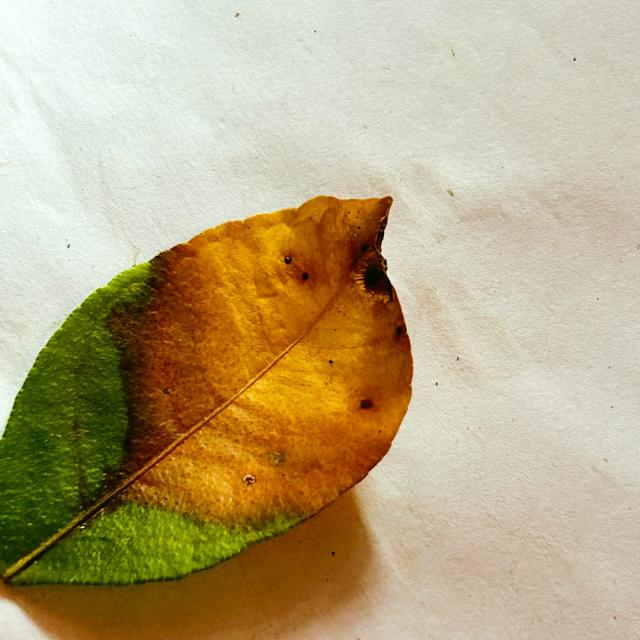DryLeaf_Lemon: (71, 196, 413, 527)
